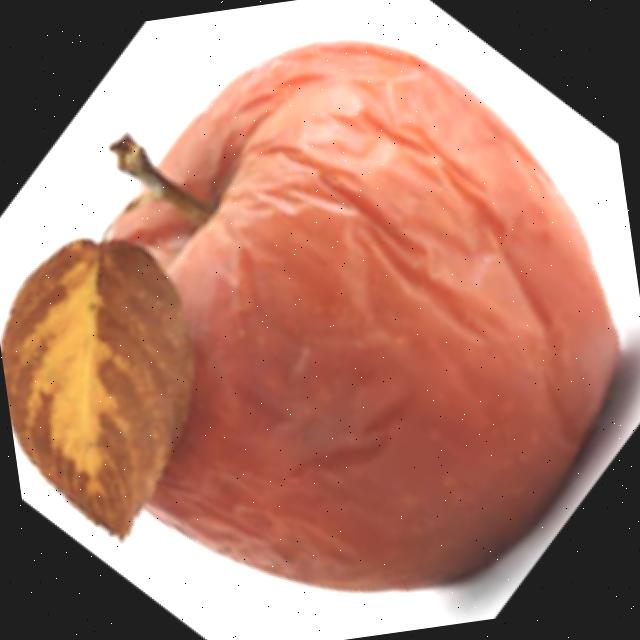overripe: (46, 4, 640, 633)
